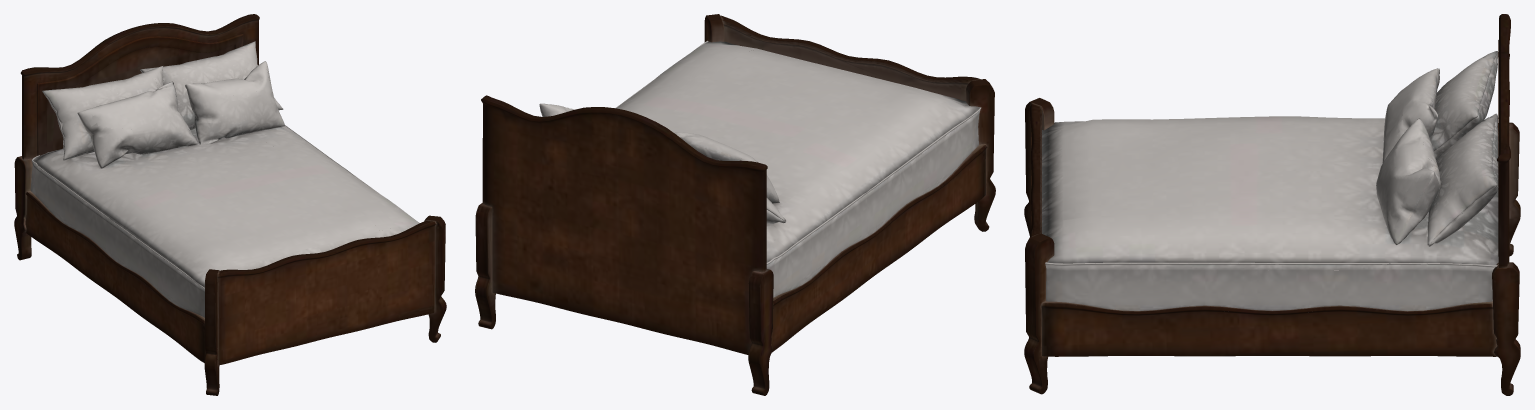
Rendered from bed-12.glb.
3 renders of one model, left to right at view 1: azimuth 30°, elevation 25°; view 2: azimuth 150°, elevation 25°; view 3: azimuth 270°, elevation 25°, orthographic. The views are drawn at different scales.
Parts seen in each view (by area): view 1: victorian_bed_wood, victorian_bed_mattres, pollows; view 2: victorian_bed_wood, victorian_bed_mattres, pollows; view 3: victorian_bed_mattres, victorian_bed_wood, pollows.
Part boxes in pixels (x1=…): victorian_bed_wood: x1=14, y1=14, x2=446, y2=395; victorian_bed_mattres: x1=30, y1=125, x2=419, y2=317; pollows: x1=42, y1=41, x2=284, y2=168; victorian_bed_wood: x1=475, y1=14, x2=995, y2=395; victorian_bed_mattres: x1=615, y1=40, x2=981, y2=297; pollows: x1=539, y1=103, x2=785, y2=223; victorian_bed_mattres: x1=1042, y1=116, x2=1498, y2=311; victorian_bed_wood: x1=1024, y1=14, x2=1520, y2=395; pollows: x1=1376, y1=51, x2=1498, y2=246.
Size of the model in its own units: 11.38 by 9.23 by 16.05.
Materials: 3 (3 with a texture image).
